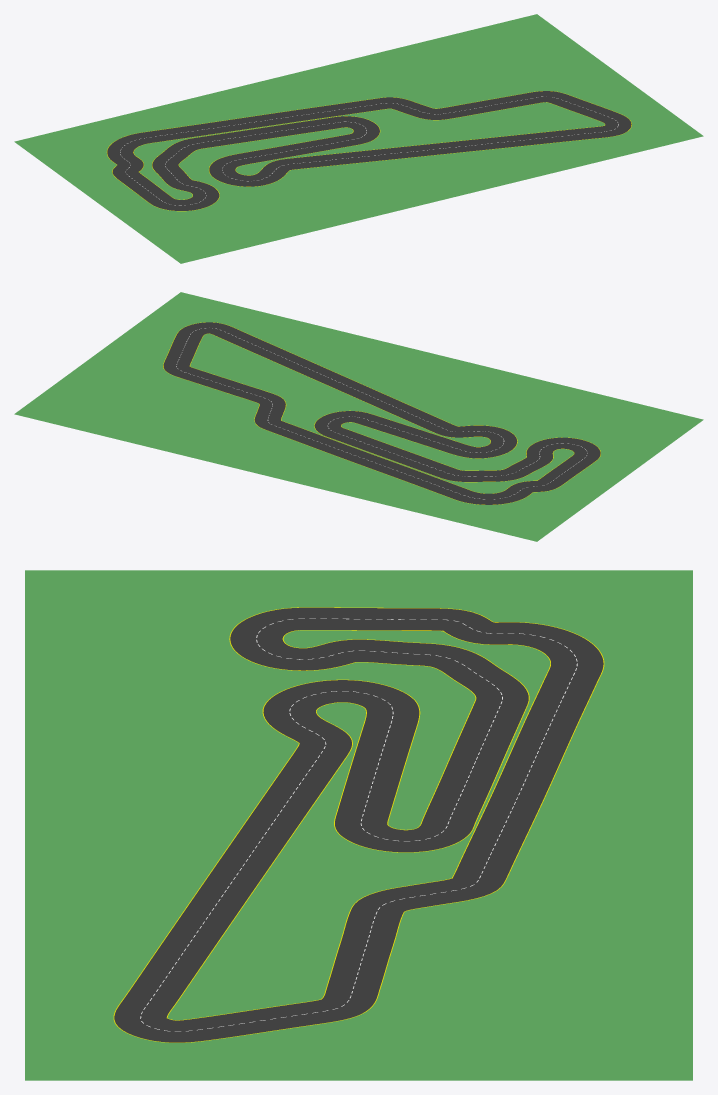
The model's file is Oschersleben.dae.
3 renders of one model, top to bottom at view 1: azimuth 30°, elevation 25°; view 2: azimuth 150°, elevation 25°; view 3: azimuth 270°, elevation 25°, orthographic. The views are drawn at different scales.
Visible parts, largest first — view 1: Ground, Track_Road, Lane_Right, Lane_Left, Lane_Center; view 2: Ground, Track_Road, Lane_Right, Lane_Left, Lane_Center; view 3: Ground, Track_Road, Lane_Right, Lane_Left, Lane_Center.
Part boxes in pixels (box(x1,y1,x2,y2)): Ground: box(14, 14, 703, 263); Track_Road: box(107, 91, 631, 210); Lane_Right: box(106, 91, 631, 211); Lane_Left: box(133, 102, 605, 199); Lane_Center: box(120, 96, 618, 205); Ground: box(14, 292, 703, 541); Track_Road: box(163, 322, 600, 504); Lane_Right: box(163, 322, 600, 504); Lane_Left: box(189, 333, 574, 493); Lane_Center: box(176, 328, 587, 499); Ground: box(25, 570, 692, 1080); Track_Road: box(114, 607, 603, 1042); Lane_Right: box(113, 607, 604, 1042); Lane_Left: box(166, 630, 550, 1020); Lane_Center: box(140, 618, 577, 1031).
Size of the model in its own units: 272 by 150 by 0.07.
